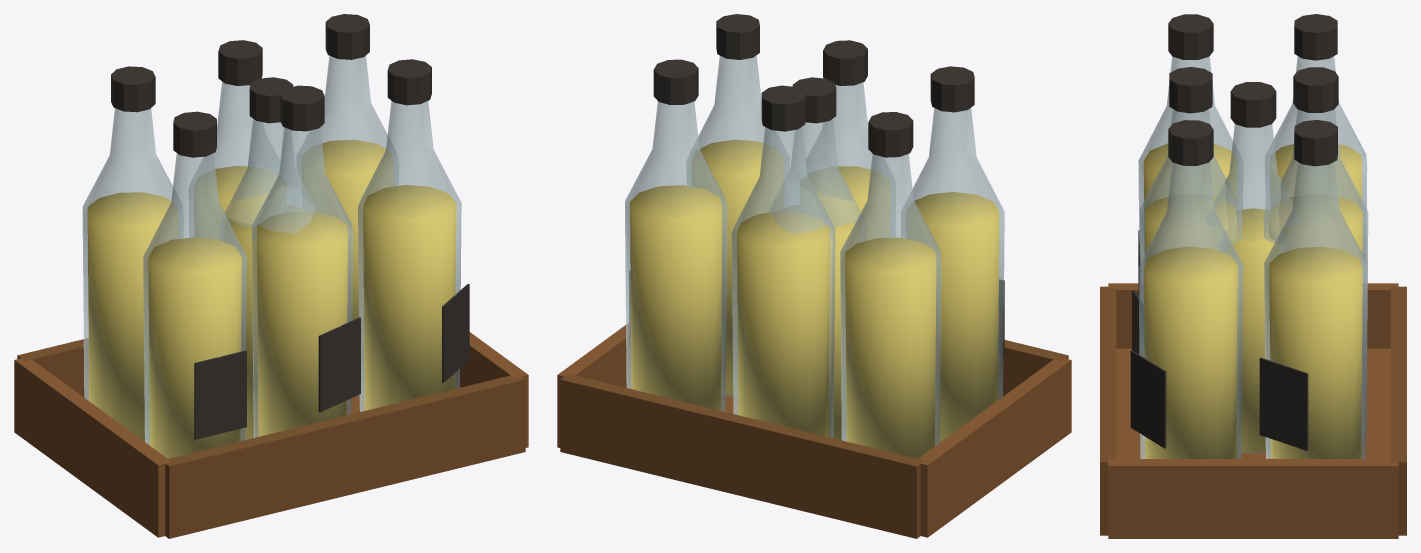
The model's file is Proc_SunflowerOil.fbx.
3 views of the same model, side by side, from view 1: azimuth 30°, elevation 25°; view 2: azimuth 150°, elevation 25°; view 3: azimuth 270°, elevation 25° (orthographic).
Visible parts, largest first — view 1: Proc_SunflowerOil__Stack, Proc_SunflowerOil; view 2: Proc_SunflowerOil__Stack, Proc_SunflowerOil; view 3: Proc_SunflowerOil__Stack, Proc_SunflowerOil.
Part boxes in pixels (left/top/right/bottom): Proc_SunflowerOil__Stack: left=14, top=14, right=528, bottom=538; Proc_SunflowerOil: left=220, top=77, right=317, bottom=439; Proc_SunflowerOil__Stack: left=557, top=14, right=1071, bottom=538; Proc_SunflowerOil: left=768, top=77, right=865, bottom=440; Proc_SunflowerOil__Stack: left=1100, top=14, right=1406, bottom=538; Proc_SunflowerOil: left=1214, top=82, right=1292, bottom=454.
Bounding box in the file's own units: 0.214 × 0.203 × 0.152.
